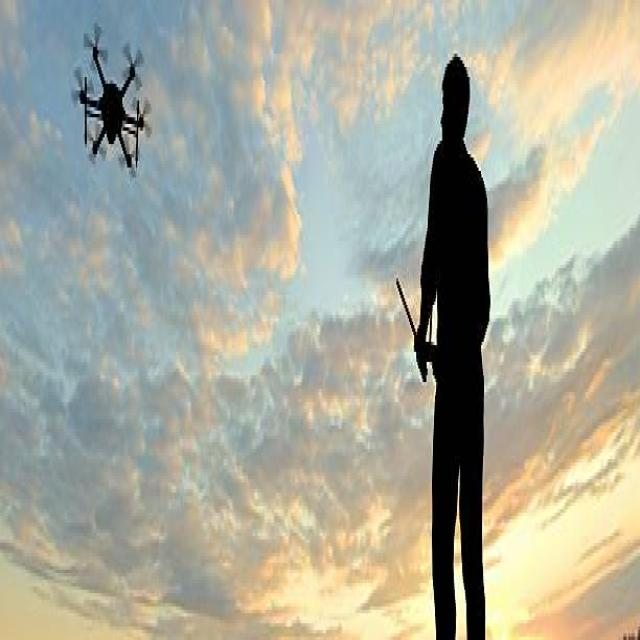drone: (71, 20, 152, 171)
